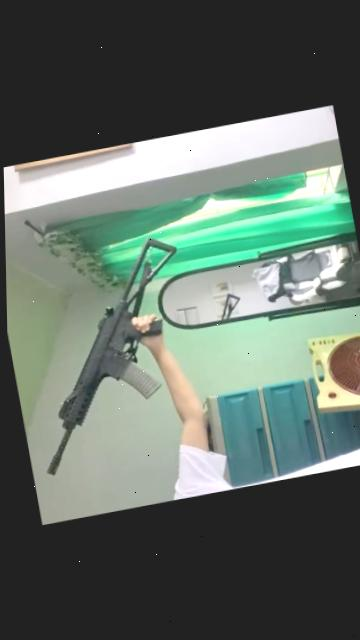rifle: (4, 225, 214, 478)
